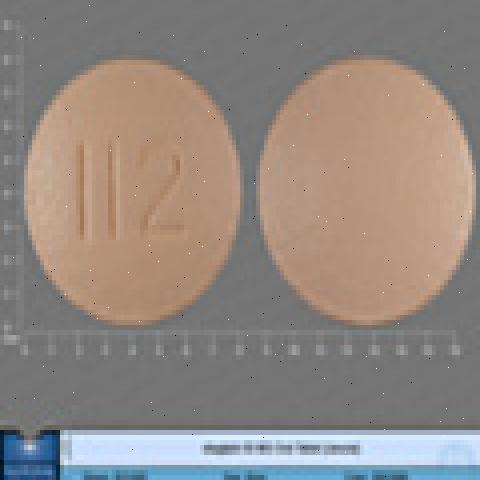Pill: (21, 38, 252, 356), (252, 43, 480, 343)
